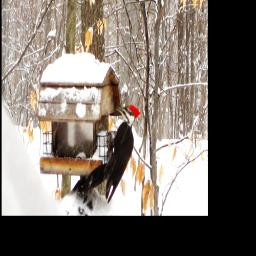Woodpecker: (78, 104, 142, 205)
